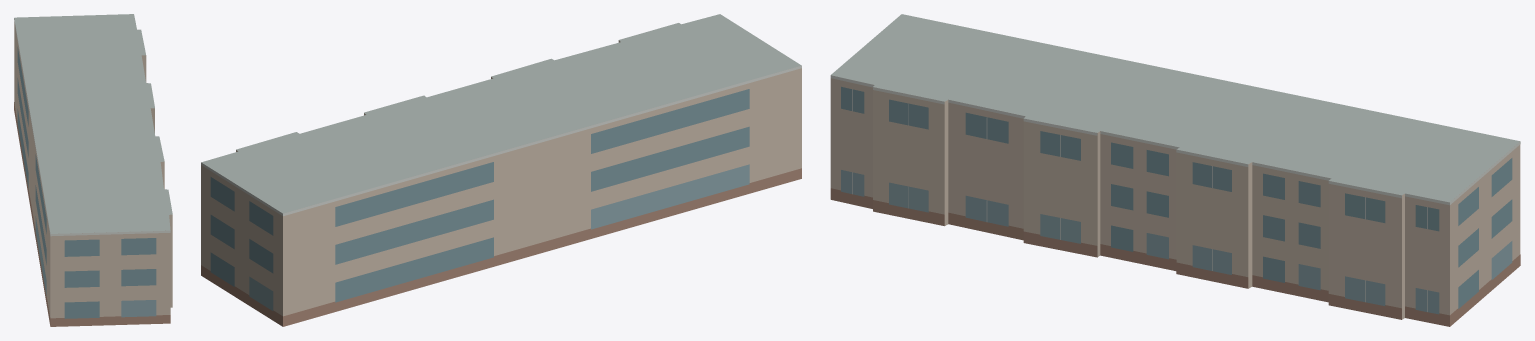
The model's file is survey-upis-32512522.glb.
3 views of the same model, side by side, from view 1: azimuth 30°, elevation 25°; view 2: azimuth 150°, elevation 25°; view 3: azimuth 270°, elevation 25° (orthographic). The views are drawn at different scales.
Visible parts, largest first — view 1: survey-upis-32512522.tmp; view 2: survey-upis-32512522.tmp; view 3: survey-upis-32512522.tmp.
Part boxes in pixels (x1,y1,x2,y2): survey-upis-32512522.tmp: (14, 14, 172, 326); survey-upis-32512522.tmp: (201, 14, 801, 326); survey-upis-32512522.tmp: (830, 14, 1520, 326).
Bounding box in the file's own units: 34.09 × 10.5 × 52.74.
